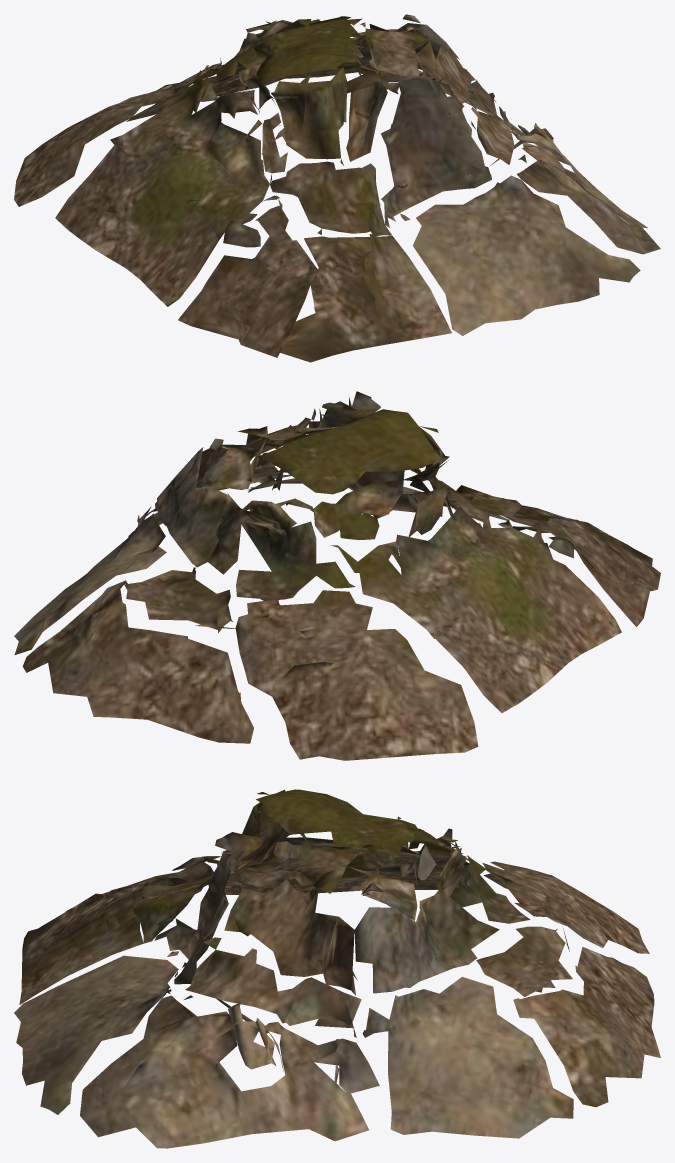
Rendered from tree_stump_01.glb.
3 views of the same model, one above another, from view 1: azimuth 30°, elevation 25°; view 2: azimuth 150°, elevation 25°; view 3: azimuth 270°, elevation 25° (orthographic). The views are drawn at different scales.
Parts seen in each view (by area): view 1: tree_stump_01; view 2: tree_stump_01; view 3: tree_stump_01.
Boxes of the visible parts, x1=… form: tree_stump_01: x1=14, y1=14, x2=660, y2=362; tree_stump_01: x1=14, y1=391, x2=660, y2=760; tree_stump_01: x1=14, y1=789, x2=660, y2=1148.
Size of the model in its own units: 1.4 by 0.5669 by 1.58.
1 material, 1 textured.
